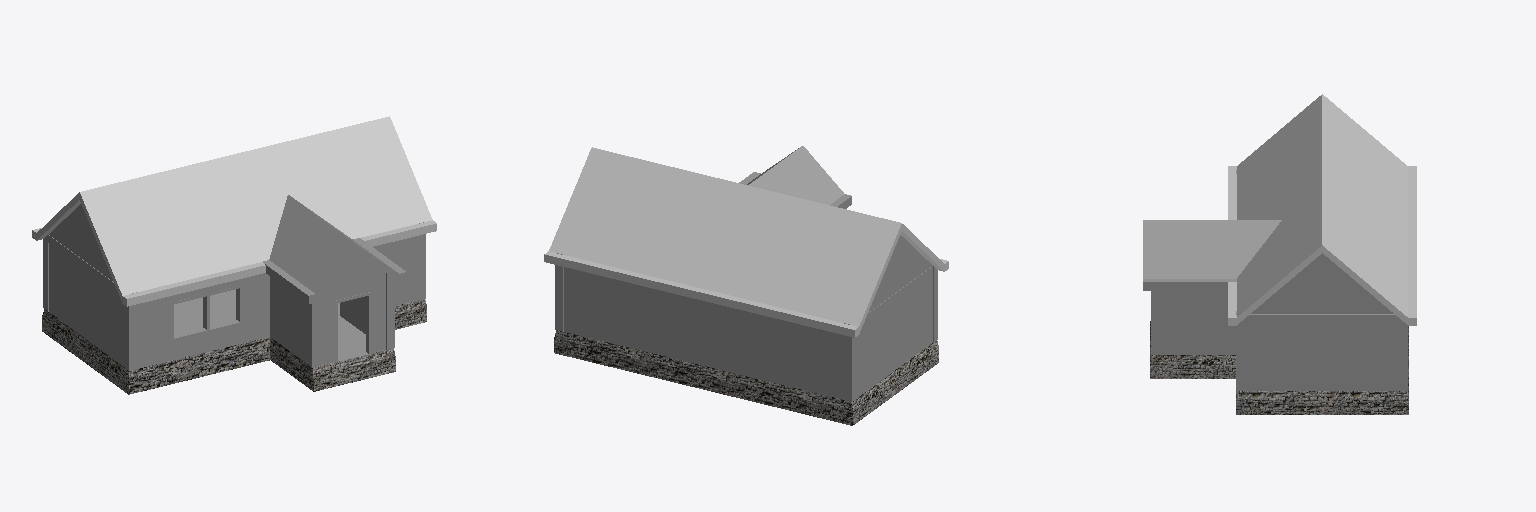
3 views of the same model, side by side, from view 1: azimuth 30°, elevation 25°; view 2: azimuth 150°, elevation 25°; view 3: azimuth 270°, elevation 25° (orthographic).
Parts seen in each view (by area): view 1: Roof1, Plane, Wall2, Roof2, Wall1, Wall5, Wall4, Wall7, Cube.010, Cube.015, Cube.011, Wall6 (+1 smaller); view 2: Roof1, Plane, Wall3, Wall9, Wall2, Roof2, Cube.014, Cube.026, Cube.013; view 3: Roof1, Wall8, Roof2, Plane, Wall6, Cube.025, Cube.012, Cube.013, Cube.011.
Boxes of the visible parts, box(x1,y1,x2,y2) form: Roof1: box(32, 116, 436, 306); Plane: box(42, 289, 426, 394); Wall2: box(49, 204, 124, 366); Roof2: box(263, 195, 406, 303); Wall1: box(137, 273, 269, 368); Wall5: box(320, 254, 385, 365); Wall4: box(270, 277, 307, 363); Wall7: box(340, 236, 417, 317); Cube.010: box(308, 298, 319, 367); Cube.015: box(125, 292, 136, 370); Cube.011: box(386, 273, 394, 349); Wall6: box(344, 296, 365, 333); Roof1: box(544, 147, 948, 337); Plane: box(554, 330, 938, 425); Wall3: box(704, 301, 843, 399); Wall9: box(564, 267, 703, 365); Wall2: box(857, 235, 932, 397); Roof2: box(739, 146, 851, 208); Cube.014: box(844, 323, 856, 401); Cube.026: box(863, 266, 932, 324); Cube.013: box(555, 253, 563, 331); Roof1: box(1228, 94, 1416, 325); Wall8: box(1246, 253, 1398, 390); Roof2: box(1143, 220, 1281, 290); Plane: box(1150, 321, 1408, 414); Wall6: box(1160, 291, 1235, 354); Cube.025: box(1246, 314, 1398, 322); Cube.012: box(1236, 311, 1245, 390); Cube.013: box(1399, 318, 1407, 390); Cube.011: box(1151, 291, 1159, 354).
Bounding box in the file's own units: 42 × 22.34 × 32.06.
Materials: 11 (2 with a texture image).